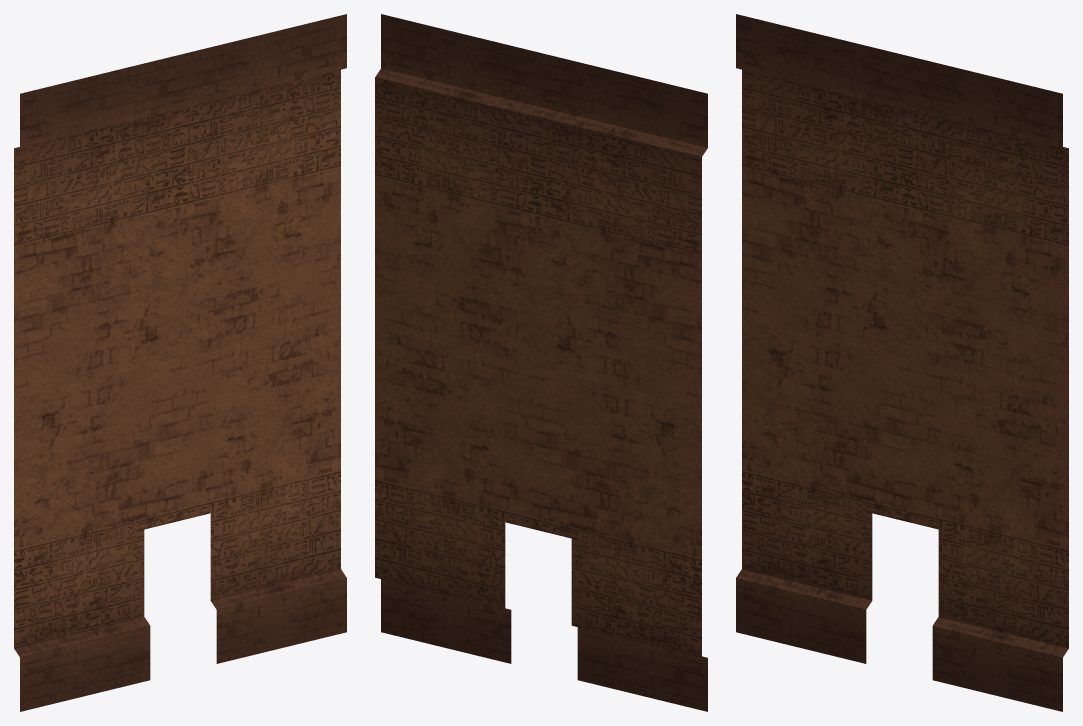
Rendered from Wall_Entry_1x2.FBX.
The picture shows the model from 3 angles, left to right: view 1: azimuth 30°, elevation 25°; view 2: azimuth 150°, elevation 25°; view 3: azimuth 330°, elevation 25°; orthographic projection.
Visible parts, largest first — view 1: Wall_Entry_1x2; view 2: Wall_Entry_1x2; view 3: Wall_Entry_1x2.
Part boxes in pixels (box(x1,y1,x2,y2)): Wall_Entry_1x2: box(14, 14, 346, 711); Wall_Entry_1x2: box(375, 14, 707, 711); Wall_Entry_1x2: box(736, 14, 1068, 711).
Bounding box in the file's own units: 116 × 210 × 3.78.
